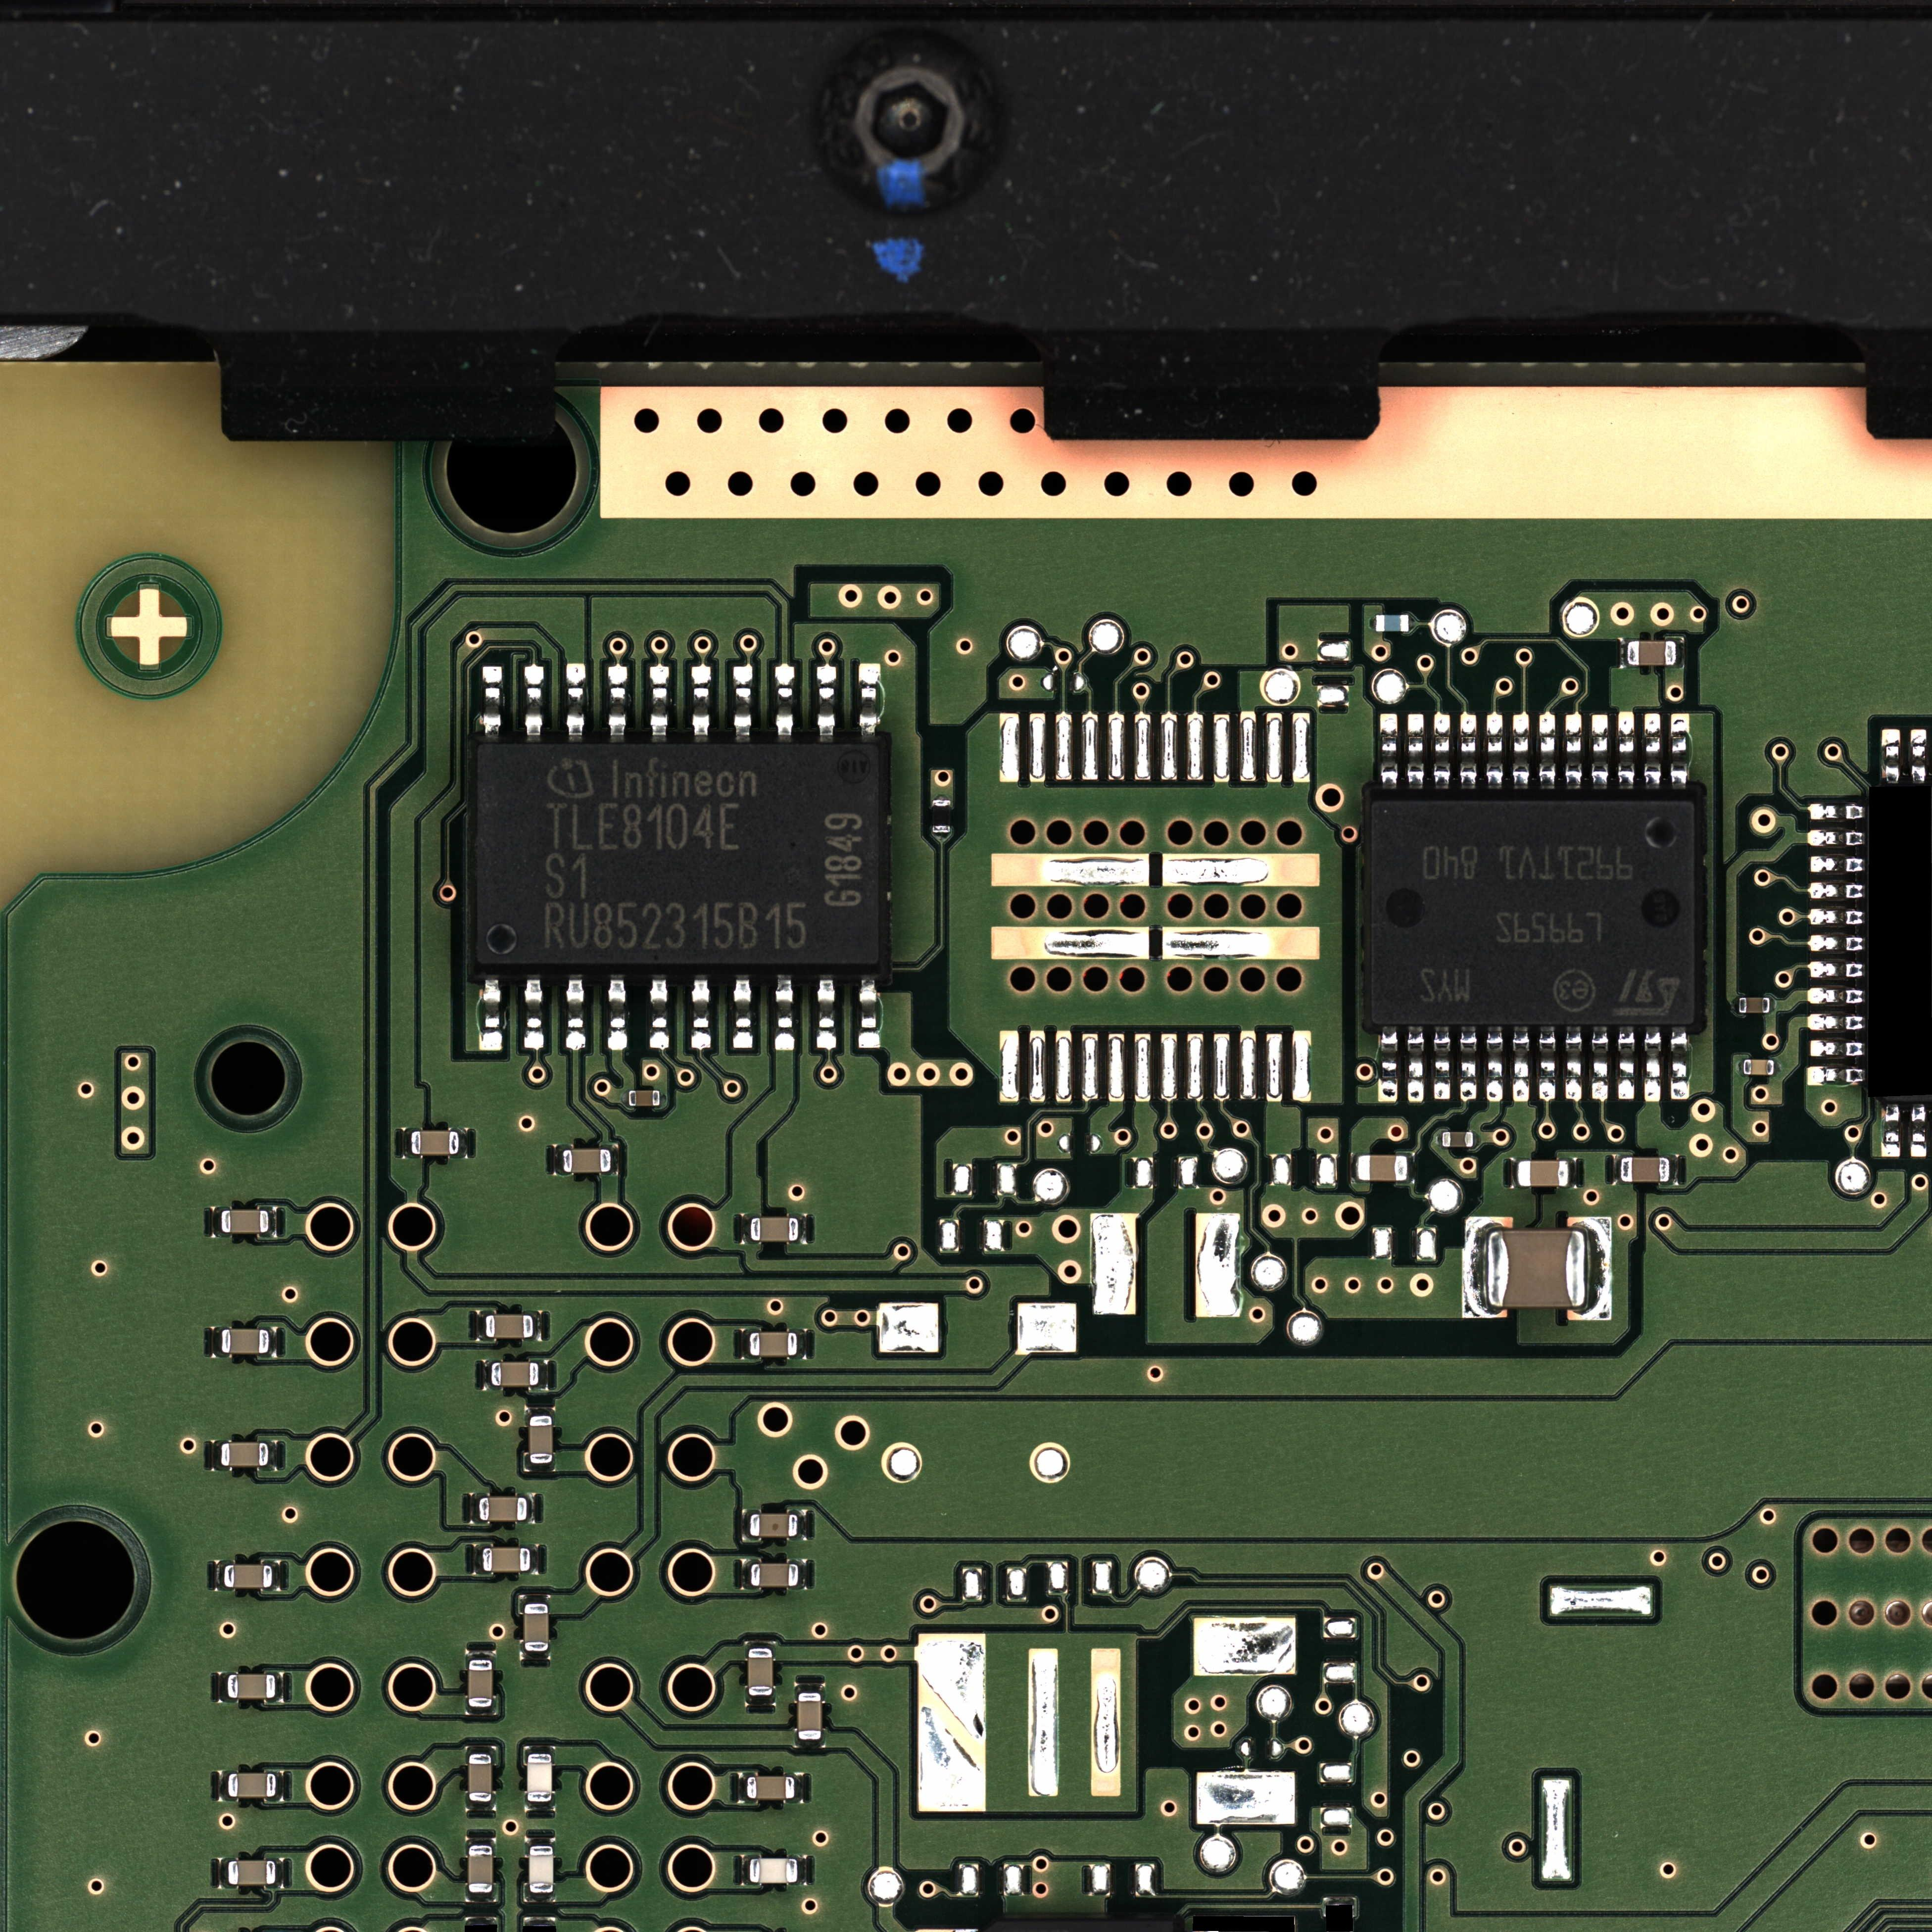Package: (476, 743, 879, 966), (1369, 800, 1695, 1024), (1486, 1230, 1587, 1309), (1357, 1155, 1408, 1182), (1518, 1161, 1569, 1187), (750, 1858, 798, 1884), (748, 1332, 798, 1357), (410, 1131, 460, 1155), (1621, 1157, 1670, 1182), (479, 1497, 527, 1522), (485, 1315, 533, 1339), (750, 1513, 798, 1537), (228, 1861, 276, 1886), (225, 1564, 272, 1589), (228, 1773, 276, 1798), (563, 1148, 610, 1173), (750, 1217, 798, 1242), (527, 1753, 552, 1801), (469, 1845, 494, 1893), (529, 1845, 554, 1893), (221, 1442, 269, 1467), (492, 1362, 540, 1387), (226, 1674, 274, 1698), (221, 1329, 269, 1353), (483, 1548, 531, 1573), (1628, 640, 1675, 665), (524, 1605, 548, 1651), (748, 1649, 773, 1695), (469, 1660, 492, 1707), (747, 1776, 794, 1799), (529, 1415, 552, 1463), (750, 1564, 798, 1587), (221, 1210, 269, 1233), (469, 1755, 492, 1801), (798, 1693, 821, 1739), (932, 800, 950, 833), (1375, 614, 1408, 632), (628, 1090, 660, 1106), (1442, 1131, 1474, 1146), (1739, 998, 1769, 1014), (1744, 1060, 1775, 1076)
Solder: (1587, 1221, 1612, 1320), (1463, 1217, 1484, 1318), (478, 973, 502, 1053), (858, 663, 883, 743), (858, 973, 881, 1049), (607, 973, 628, 1051), (481, 665, 502, 741), (732, 973, 754, 1049), (649, 663, 669, 743), (775, 663, 794, 743), (817, 663, 837, 743), (524, 663, 543, 743), (566, 663, 586, 743), (775, 973, 794, 1053), (1378, 1024, 1398, 1104), (692, 665, 711, 743), (732, 665, 752, 743), (607, 665, 626, 743), (817, 973, 837, 1051), (566, 973, 586, 1051), (649, 973, 669, 1051), (524, 973, 543, 1051), (1670, 713, 1690, 791), (692, 973, 711, 1049), (1670, 1026, 1690, 1100), (1460, 711, 1477, 791), (1513, 711, 1530, 791), (1433, 711, 1451, 791), (1380, 713, 1398, 791), (1407, 1024, 1424, 1102), (1486, 711, 1504, 789), (1617, 711, 1635, 789), (1539, 1024, 1557, 1102), (1460, 1024, 1477, 1102), (1513, 1024, 1530, 1102), (1486, 1024, 1504, 1102), (1407, 713, 1424, 789), (1644, 713, 1661, 789), (1617, 1024, 1635, 1100), (1433, 1024, 1451, 1100), (1644, 1026, 1661, 1102), (1539, 711, 1555, 789), (1592, 713, 1608, 791), (1592, 1024, 1608, 1102), (1566, 1024, 1582, 1102), (1806, 1065, 1865, 1086), (1566, 713, 1582, 789), (1909, 729, 1928, 784), (1806, 803, 1865, 821), (1806, 881, 1865, 899), (1806, 908, 1865, 925), (1806, 934, 1865, 952), (1806, 961, 1865, 978), (1806, 987, 1865, 1005), (1806, 1040, 1865, 1058), (1881, 1104, 1900, 1157), (1907, 1104, 1927, 1157), (1882, 727, 1900, 784), (1806, 830, 1865, 846), (1806, 856, 1865, 872), (1806, 1014, 1865, 1030), (458, 1127, 469, 1159), (218, 1771, 228, 1801), (794, 1683, 824, 1693), (1323, 1897, 1357, 1905), (522, 1916, 556, 1925), (465, 1916, 499, 1925), (402, 1127, 410, 1159), (465, 1893, 497, 1902), (474, 1543, 483, 1575), (465, 1707, 497, 1716), (465, 1803, 497, 1812), (214, 1560, 223, 1592), (554, 1145, 563, 1177), (524, 1463, 556, 1472), (524, 1893, 556, 1902), (524, 1803, 556, 1812), (741, 1854, 750, 1886), (212, 1327, 221, 1357), (483, 1361, 492, 1391), (212, 1207, 221, 1237), (465, 1836, 495, 1845), (219, 1858, 228, 1888), (276, 1771, 285, 1801), (465, 1651, 495, 1660), (471, 1493, 479, 1523), (610, 1145, 619, 1175), (540, 1361, 548, 1391), (533, 1311, 541, 1341), (525, 1407, 556, 1415), (741, 1214, 750, 1244), (476, 1311, 485, 1341), (794, 1773, 803, 1803), (745, 1697, 775, 1706), (741, 1559, 750, 1589), (738, 1773, 747, 1803), (1619, 639, 1628, 669), (1677, 639, 1686, 669), (798, 1215, 807, 1244), (741, 1330, 750, 1359), (798, 1559, 805, 1591), (798, 1509, 805, 1541), (741, 1509, 748, 1541), (269, 1327, 276, 1357), (269, 1207, 276, 1237), (272, 1560, 280, 1591), (276, 1858, 283, 1888), (214, 1440, 221, 1470), (276, 1672, 283, 1702), (269, 1440, 276, 1470), (219, 1672, 226, 1702), (794, 1741, 824, 1748), (525, 1838, 556, 1845), (798, 1856, 805, 1886), (531, 1545, 538, 1575), (520, 1652, 550, 1660), (745, 1640, 775, 1647), (520, 1596, 550, 1603), (1408, 1154, 1415, 1184), (1511, 1159, 1518, 1189), (1670, 1155, 1677, 1185), (467, 1746, 495, 1753), (798, 1330, 805, 1359), (527, 1495, 534, 1523), (525, 1746, 554, 1753), (1569, 1159, 1576, 1187), (1614, 1155, 1621, 1184), (1730, 996, 1739, 1014), (1352, 1154, 1357, 1182), (932, 793, 952, 800), (931, 833, 950, 840), (1408, 614, 1415, 633), (660, 1090, 667, 1108), (621, 1090, 628, 1108), (1369, 614, 1376, 632), (1474, 1131, 1481, 1148), (1736, 1058, 1743, 1076), (1435, 1131, 1442, 1148), (1769, 996, 1776, 1014), (1775, 1060, 1782, 1076)
